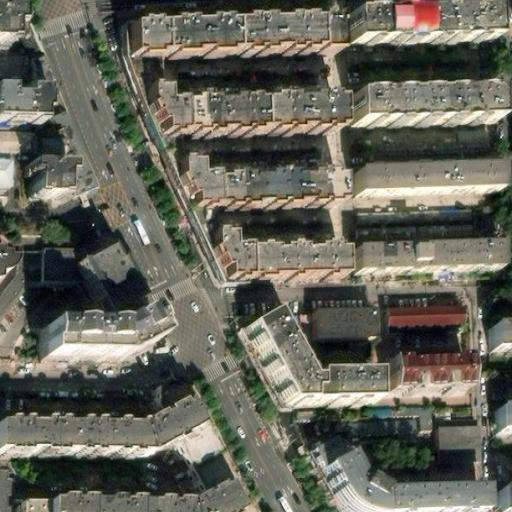building: (153, 396, 238, 505), (239, 318, 320, 431), (140, 93, 334, 139), (318, 462, 480, 512), (124, 25, 332, 60), (173, 167, 333, 211), (209, 240, 340, 286), (347, 165, 493, 202), (347, 87, 489, 125), (345, 6, 484, 44), (35, 314, 145, 361), (348, 244, 496, 276), (71, 249, 129, 319), (384, 309, 462, 359), (385, 360, 462, 402), (354, 204, 476, 229), (338, 412, 431, 443), (34, 246, 100, 281), (309, 316, 366, 350), (434, 426, 481, 466), (314, 380, 374, 410), (21, 157, 67, 191), (303, 440, 339, 476), (0, 241, 21, 284), (485, 319, 512, 352), (0, 131, 36, 154), (491, 406, 512, 438), (0, 1, 17, 34), (492, 484, 512, 511), (16, 499, 57, 512), (0, 157, 14, 193)
